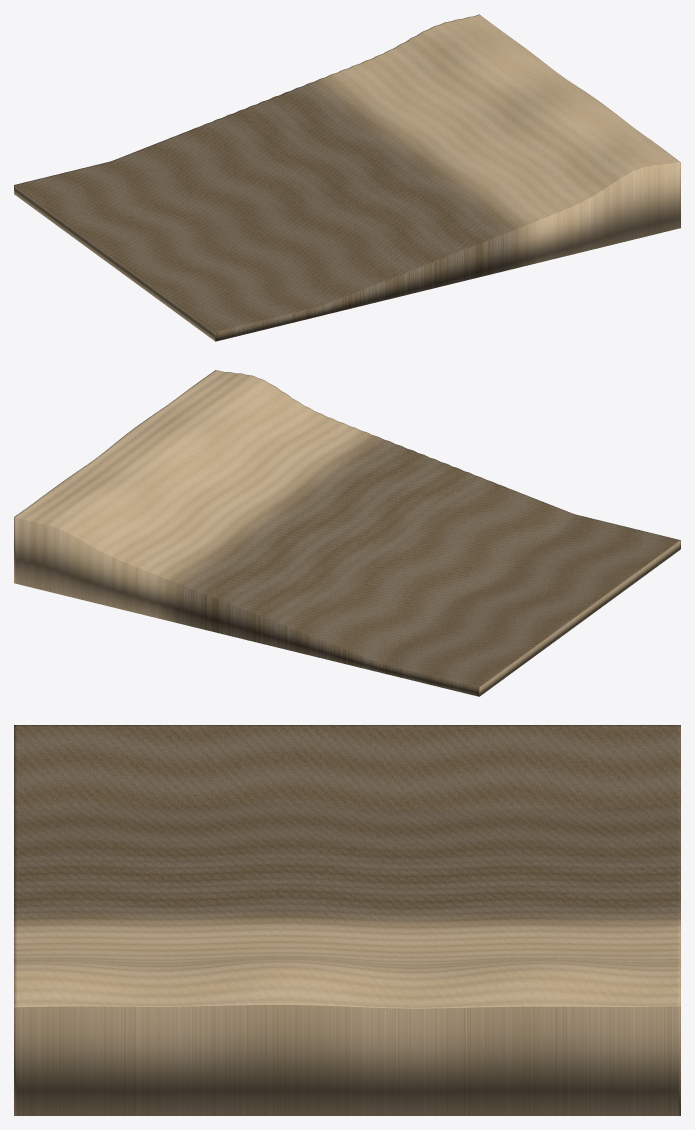
The model's file is beach-sand.glb.
3 renders of one model, top to bottom at view 1: azimuth 30°, elevation 25°; view 2: azimuth 150°, elevation 25°; view 3: azimuth 270°, elevation 25°, orthographic. The views are drawn at different scales.
Visible parts, largest first — view 1: beach-sand; view 2: beach-sand; view 3: beach-sand.
Part boxes in pixels (x1,y1,x2,y2): beach-sand: (14,14,680,341); beach-sand: (14,370,680,696); beach-sand: (14,725,680,1115).
Bounding box in the file's own units: 32 × 4.64 × 24.
Materials: 1 (1 with a texture image).
